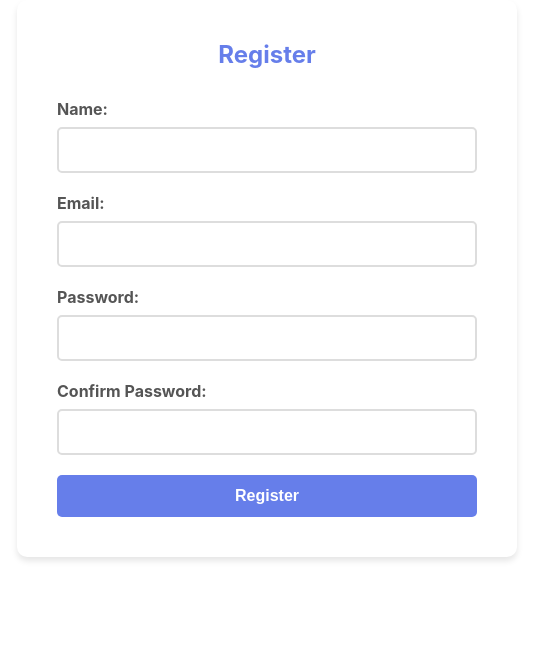
Test case: Register Component › should show error when passwords do not match
Type "John Doe" into the field with test id "name-input".
click(267, 150); type("John Doe")  # box [57,127,477,173]
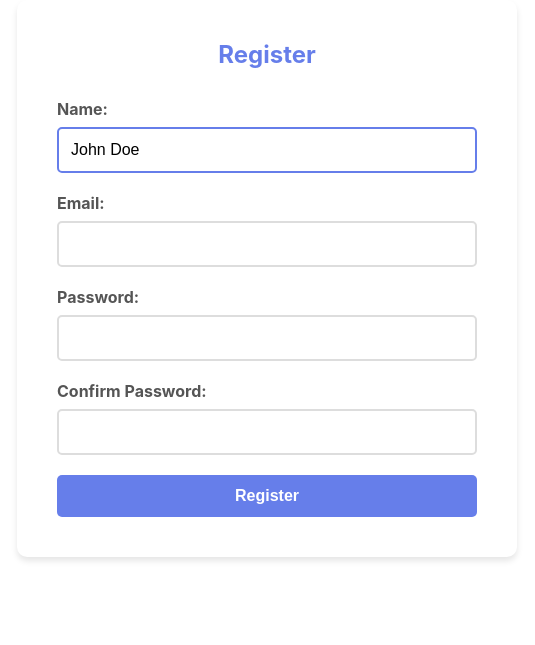
Type "test@example.com" into the field with test id "email-input".
click(267, 244); type("test@example.com")  # box [57,221,477,267]
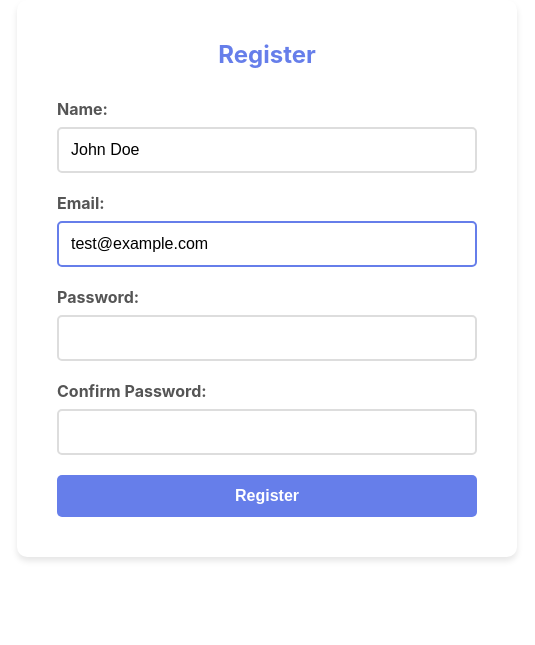
Type "password123" into the password field with test id "password-input".
click(267, 338); type("password123")  # box [57,315,477,361]
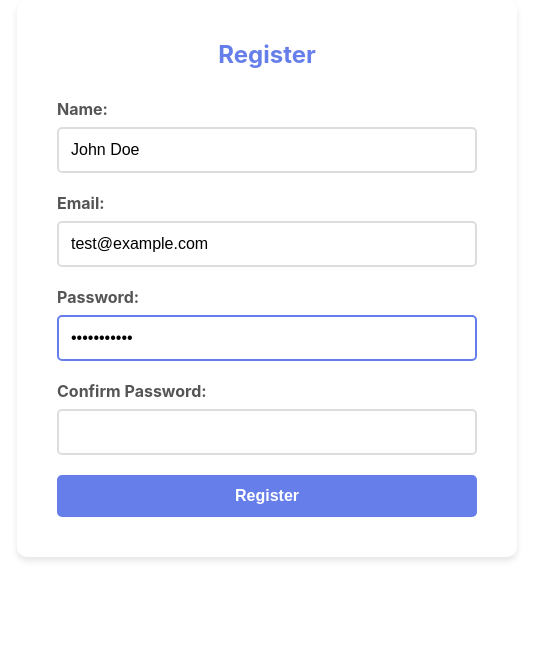
Type "differentpassword" into the password field with test id "confirm-password-input".
click(267, 432); type("differentpassword")  # box [57,409,477,455]
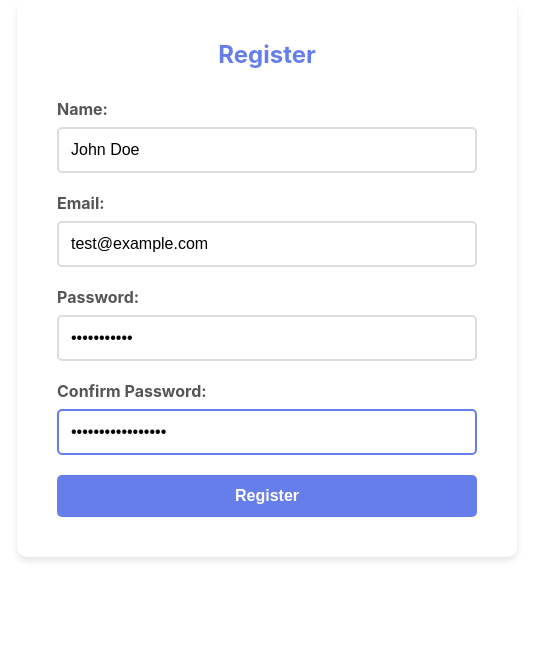
Click the button with test id "submit-button".
click(267, 496)  # box [57,475,477,517]
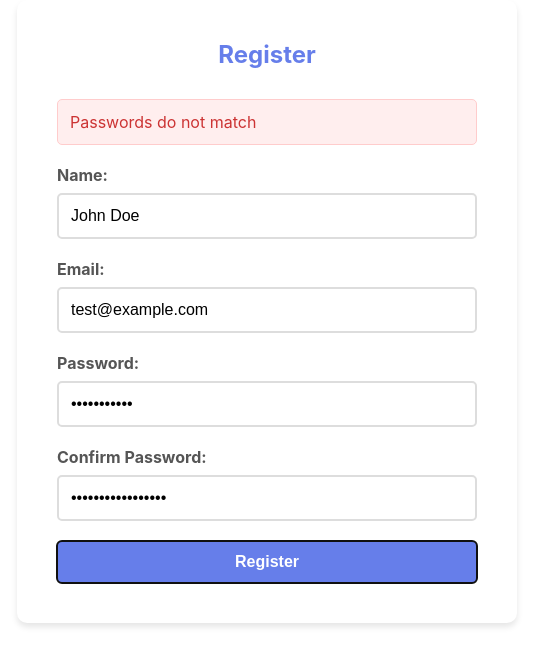
Check: the text "Passwords do not match" is shown, box [57,99,477,145]
